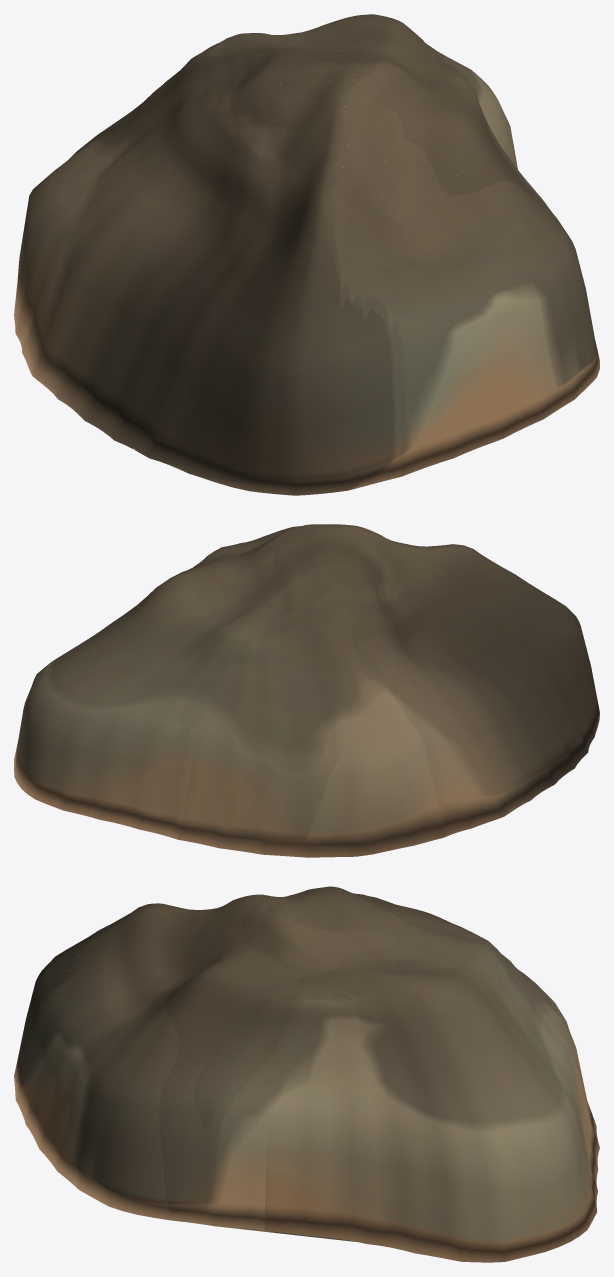
The model's file is Tas8.fbx.
3 renders of one model, top to bottom at view 1: azimuth 30°, elevation 25°; view 2: azimuth 150°, elevation 25°; view 3: azimuth 270°, elevation 25°, orthographic. The views are drawn at different scales.
Parts seen in each view (by area): view 1: Cube.033; view 2: Cube.033; view 3: Cube.033.
Boxes of the visible parts, box(x1,y1,x2,y2) form: Cube.033: box(14, 14, 599, 495); Cube.033: box(14, 524, 599, 857); Cube.033: box(14, 886, 599, 1262).
Size of the model in its own units: 926 by 436 by 953.
1 material, 1 textured.
